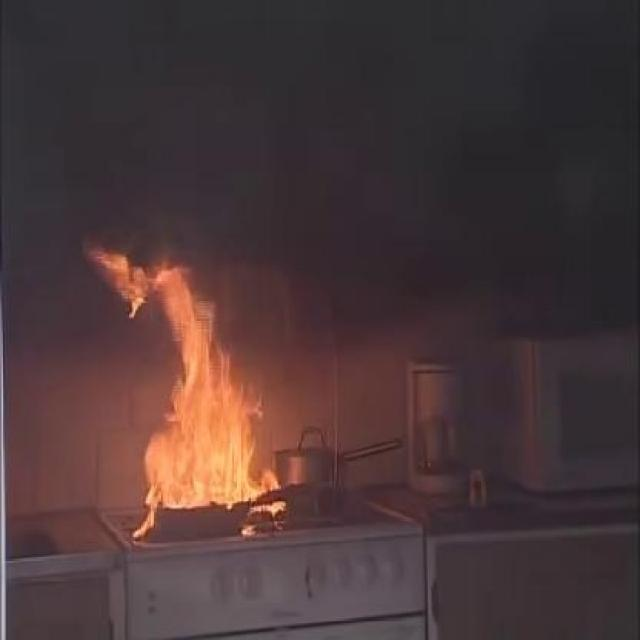fire: (74, 206, 274, 500), (90, 209, 275, 514)
